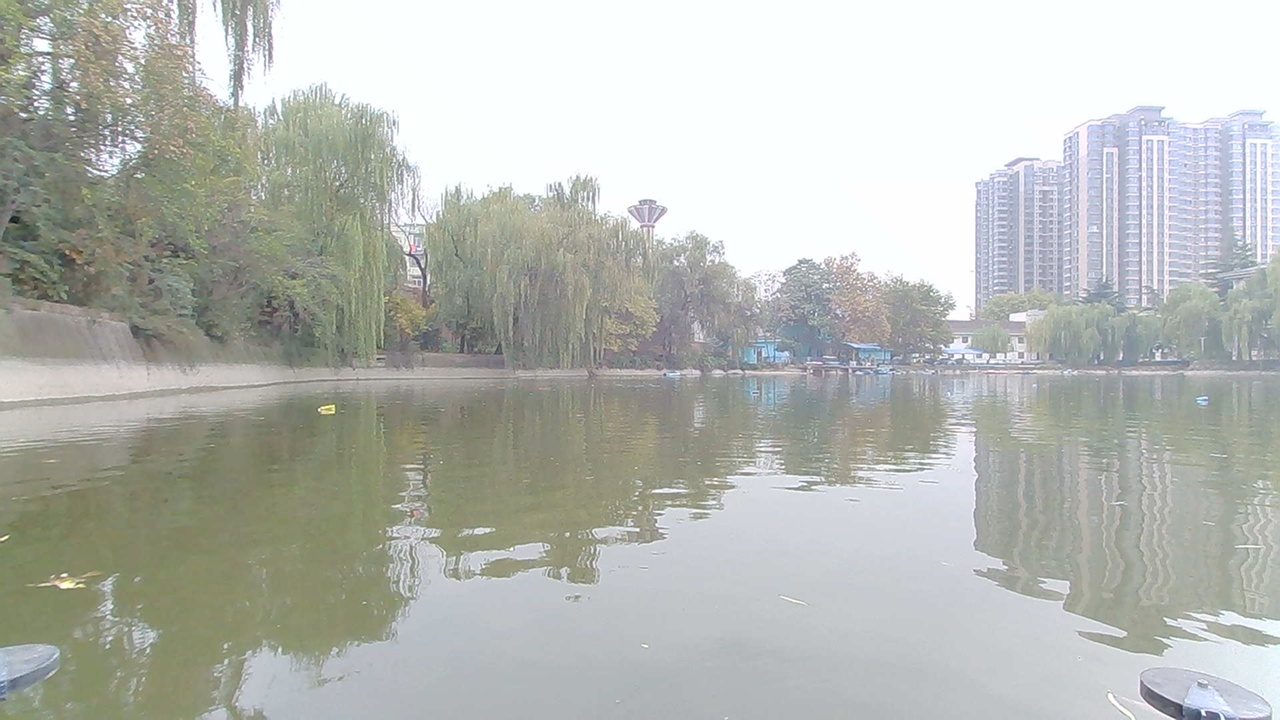bottle: (312, 397, 346, 420), (1189, 387, 1220, 410), (741, 384, 770, 399)
